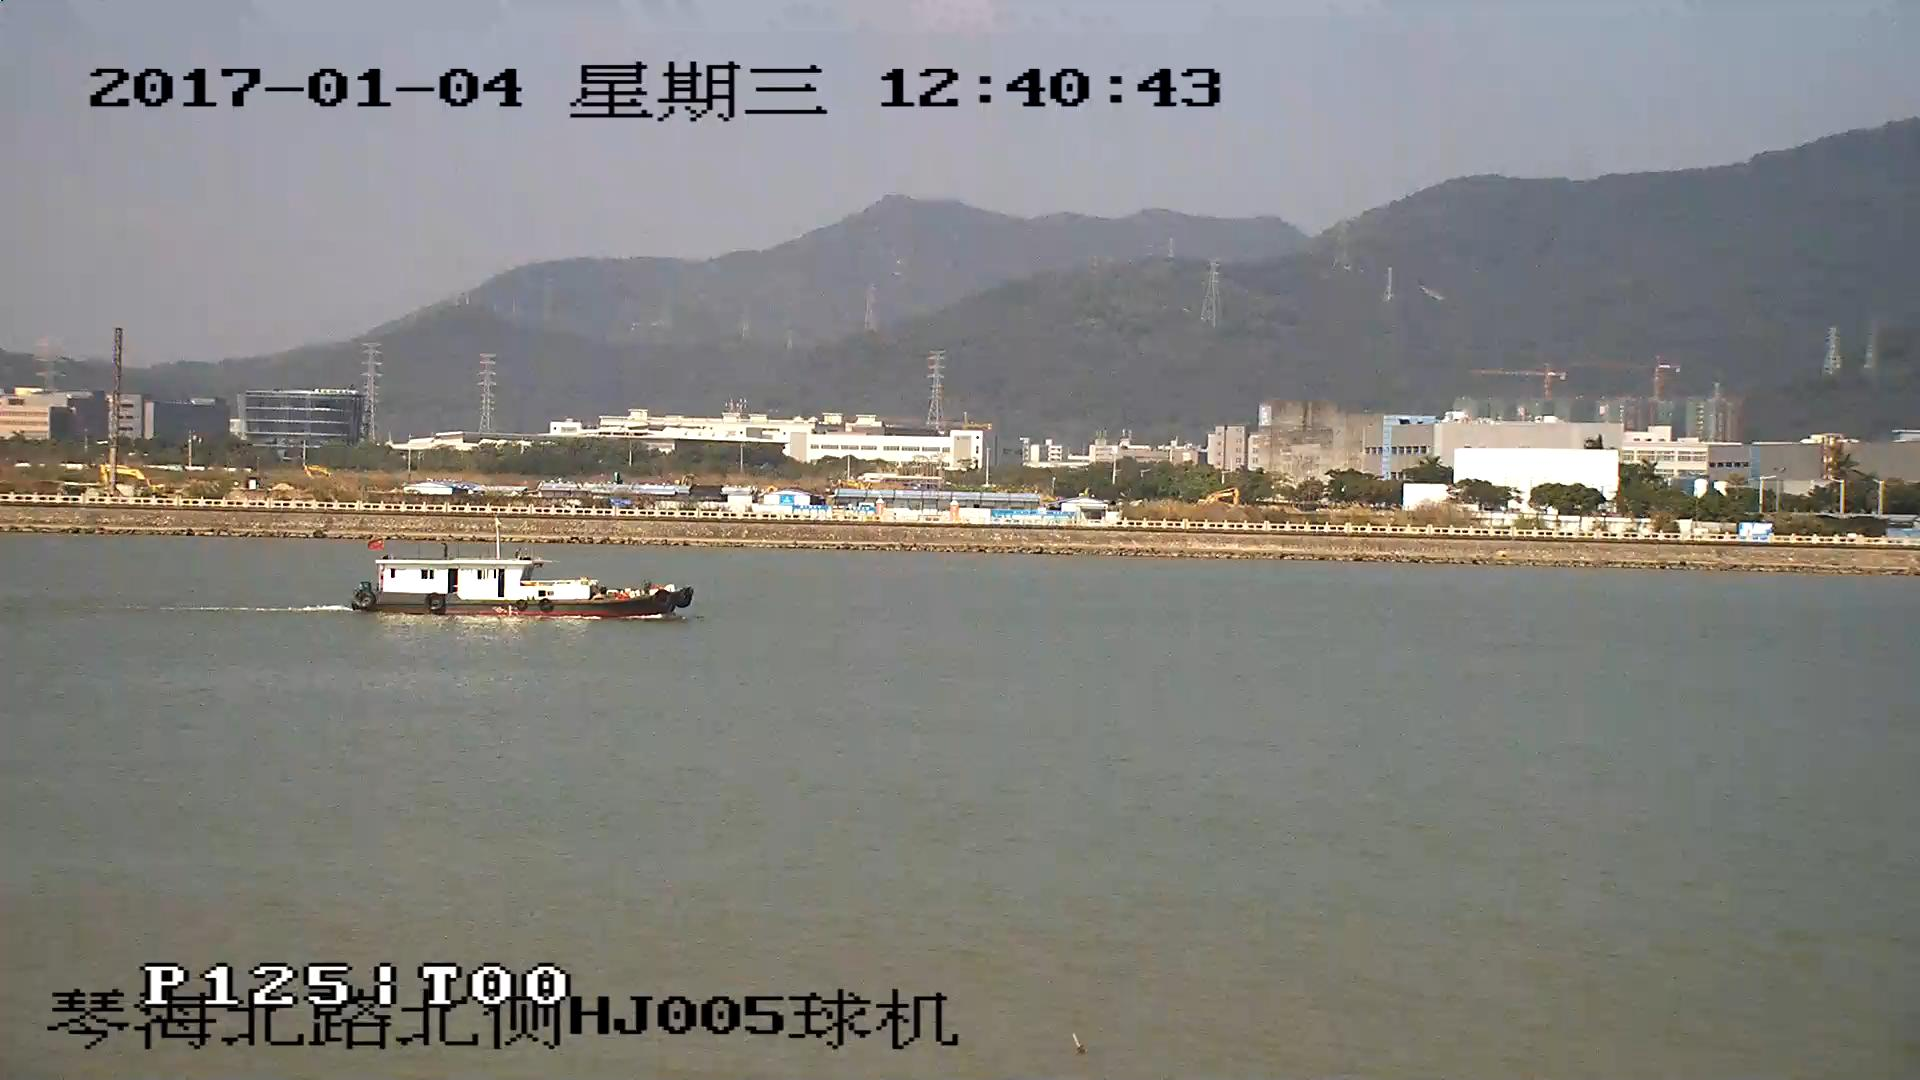fishing boat: (348, 521, 696, 618)
